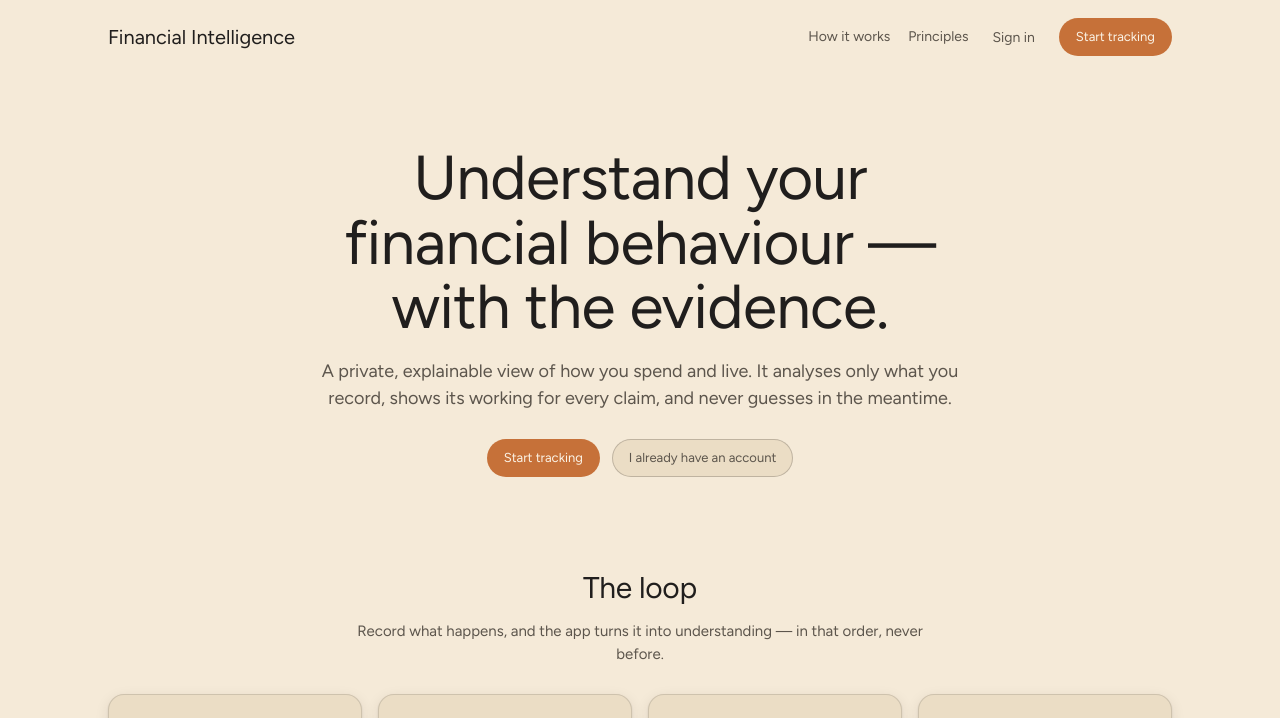
the login gate › offers a create-account tab with a display-name field
This screenshot has width=1280, height=718.
Click the button "Sign in" at {"x": 1014, "y": 37}, box [986,28,1041,47]
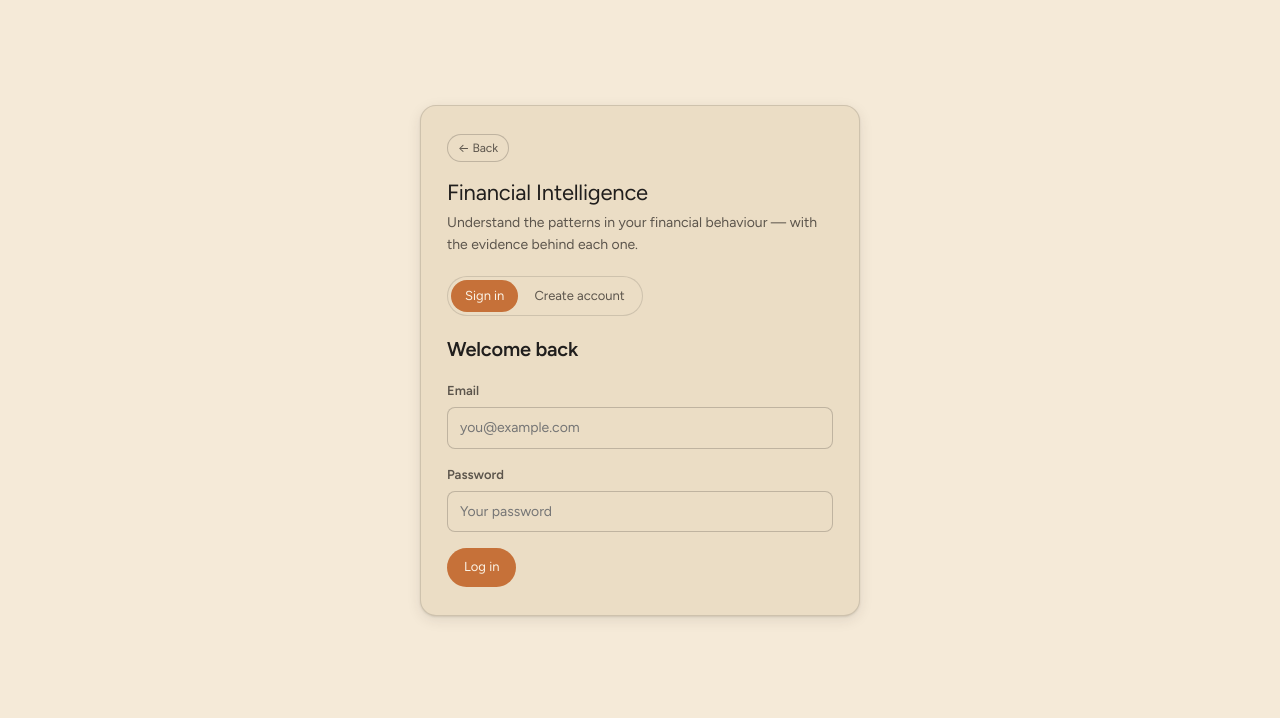
Click the button "Create account" at {"x": 580, "y": 296}, box [520,280,639,312]
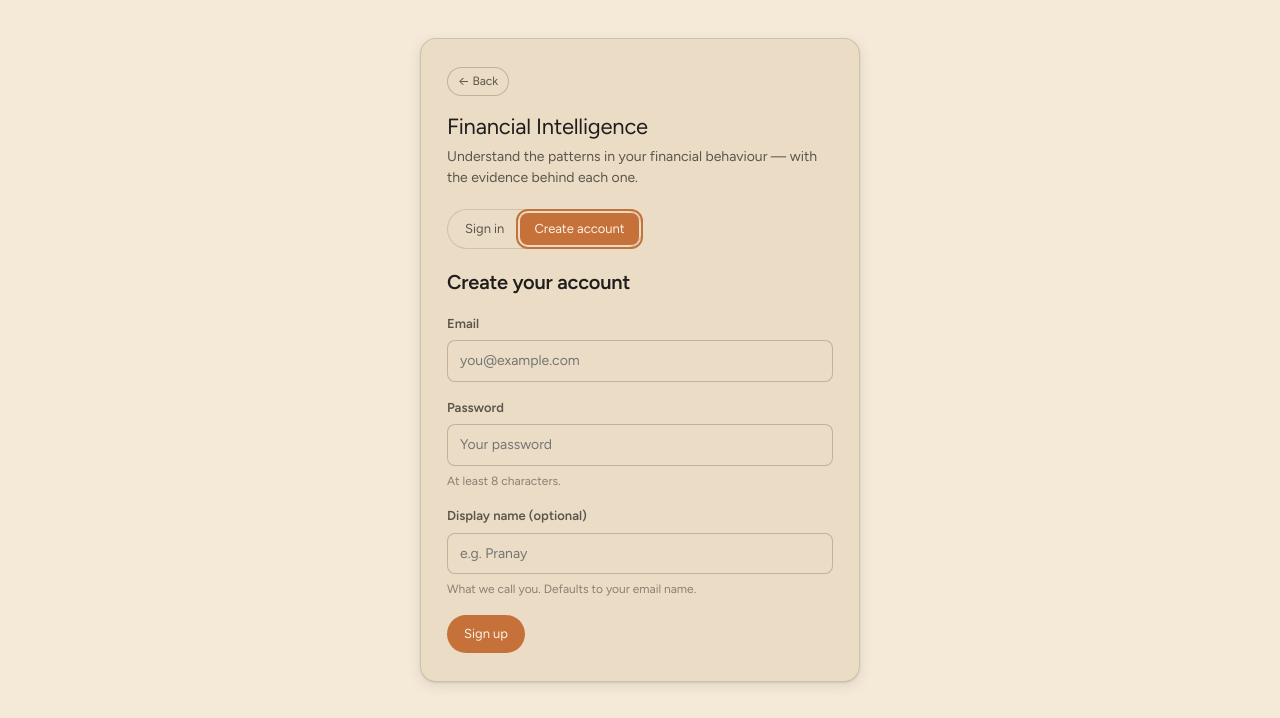
expect the text "Display name (optional)" is shown: met, box [447,508,587,523]
